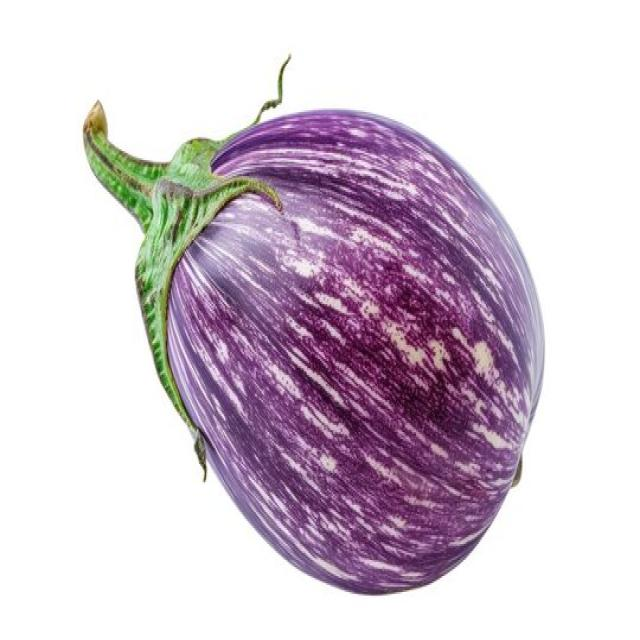Eggplant: (82, 55, 545, 596)
